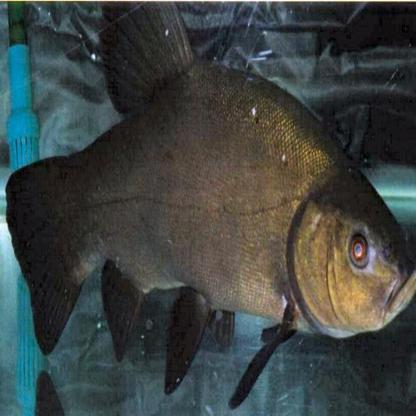fish: (6, 2, 415, 356)
